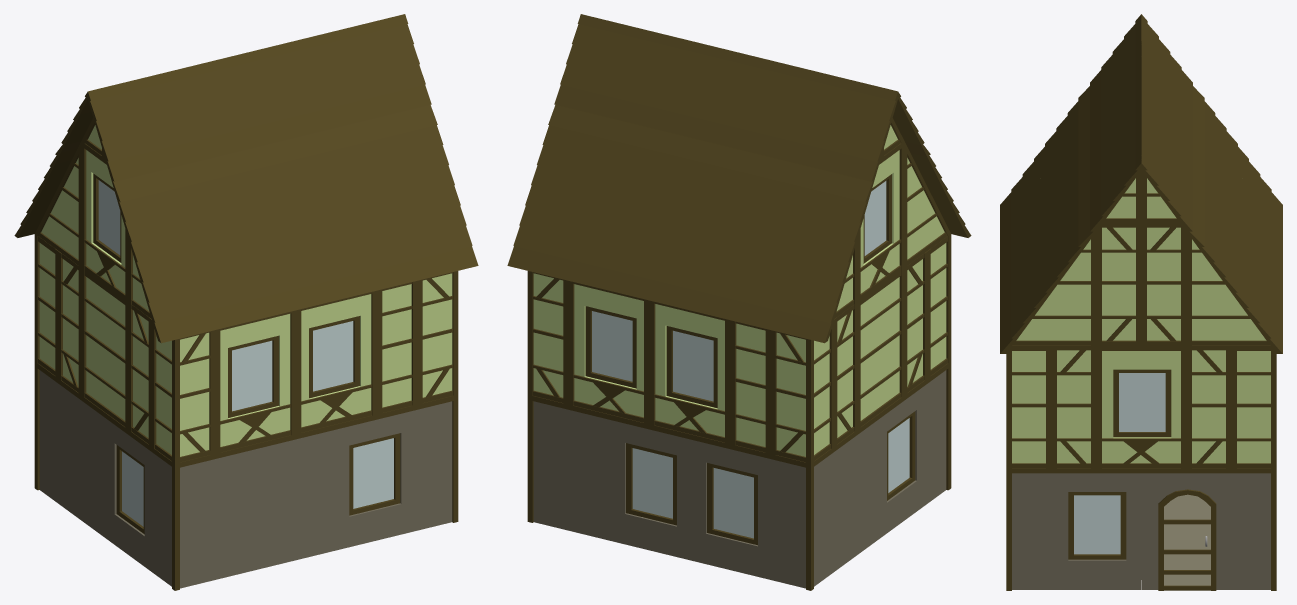
The model's file is House3.fbx.
The picture shows the model from 3 angles, left to right: view 1: azimuth 30°, elevation 25°; view 2: azimuth 150°, elevation 25°; view 3: azimuth 270°, elevation 25°; orthographic projection. The views are drawn at different scales.
Parts seen in each view (by area): view 1: RoofTile_3M161, RoofTile_3M165, Wall_TwoWindows22, RoofTile_3M163, RoofTile_3M175, Bottom_Wall24, RoofTile_3M173, OneWindow49, Wall_Plaster26, Bottom_Wall23, RoofTile_3M176, R_BottomWall14 (+22 smaller); view 2: RoofTile_3M169, RoofTile_3M158, RoofTile_3M174, Wall_TwoWindows21, RoofTile_3M177, OneWindow50, OneWindow51, Bottom_Wall23, Wall_Plaster26, RoofTile_3M178, RoofTile_3M157, R_BottomWall15 (+23 smaller); view 3: Door10, RoofTile_3M161, RoofTile_3M169, OneWindow42, OneWindow45, RoofTile_3M158, HalfWall_Plaster96, HalfWall_Plaster95, HalfWall_Plaster92, HalfWall_Plaster100, HalfWall_Plaster111, HalfWall_Plaster110 (+17 smaller).
Part boxes in pixels (left/top/right/bottom): RoofTile_3M161: left=171, top=109, right=461, bottom=328; RoofTile_3M165: left=145, top=18, right=413, bottom=167; Wall_TwoWindows22: left=215, top=290, right=377, bottom=453; RoofTile_3M163: left=338, top=105, right=478, bottom=289; RoofTile_3M175: left=111, top=168, right=218, bottom=343; Bottom_Wall24: left=214, top=434, right=296, bottom=579; RoofTile_3M173: left=309, top=14, right=431, bottom=125; OneWindow49: left=335, top=404, right=417, bottom=550; Wall_Plaster26: left=81, top=268, right=127, bottom=429; Bottom_Wall23: left=58, top=378, right=106, bottom=538; RoofTile_3M176: left=88, top=77, right=171, bottom=181; R_BottomWall14: left=416, top=395, right=458, bottom=530; RoofTile_3M169: left=524, top=109, right=814, bottom=328; RoofTile_3M158: left=571, top=18, right=840, bottom=167; RoofTile_3M174: left=507, top=105, right=648, bottom=289; Wall_TwoWindows21: left=568, top=280, right=729, bottom=443; RoofTile_3M177: left=767, top=168, right=874, bottom=343; OneWindow50: left=608, top=414, right=690, bottom=560; OneWindow51: left=689, top=434, right=771, bottom=579; Bottom_Wall23: left=832, top=412, right=881, bottom=572; Wall_Plaster26: left=858, top=268, right=904, bottom=429; RoofTile_3M178: left=814, top=77, right=897, bottom=181; RoofTile_3M157: left=554, top=14, right=676, bottom=115; R_BottomWall15: left=527, top=395, right=569, bottom=530; Door10: left=1141, top=468, right=1231, bottom=590; RoofTile_3M161: left=1000, top=113, right=1089, bottom=345; RoofTile_3M169: left=1193, top=113, right=1282, bottom=307; OneWindow42: left=1096, top=346, right=1186, bottom=468; OneWindow45: left=1051, top=468, right=1141, bottom=589; RoofTile_3M158: left=1141, top=41, right=1192, bottom=223; HalfWall_Plaster96: left=1051, top=345, right=1096, bottom=468; HalfWall_Plaster95: left=1186, top=345, right=1231, bottom=468; HalfWall_Plaster92: left=1006, top=345, right=1051, bottom=468; HalfWall_Plaster100: left=1231, top=345, right=1276, bottom=468; HalfWall_Plaster111: left=1141, top=223, right=1186, bottom=345; HalfWall_Plaster110: left=1096, top=223, right=1141, bottom=345.
Bounding box in the file's own units: 7.84 × 10.68 × 6.28.
